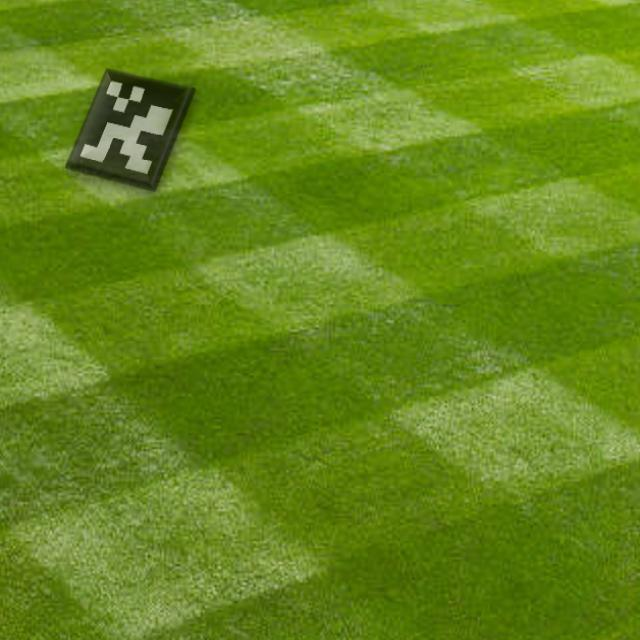marker: (62, 59, 204, 198)
